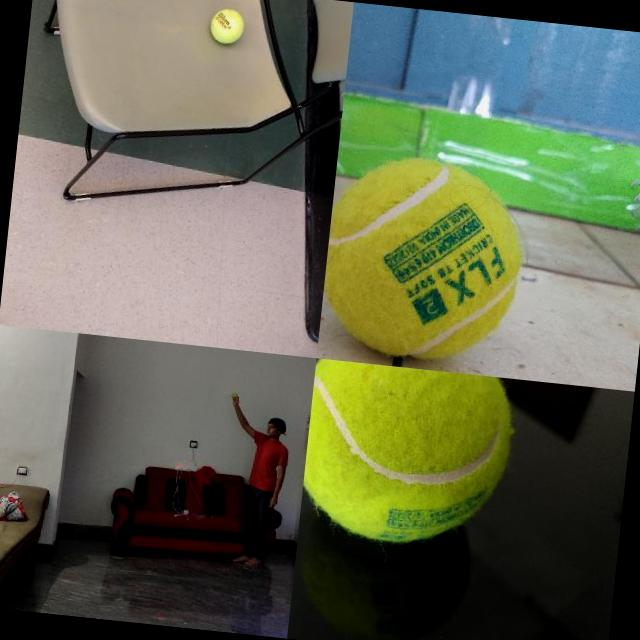Tennis Ball: (317, 147, 533, 369), (298, 358, 517, 554), (208, 6, 246, 45), (230, 392, 237, 398)
